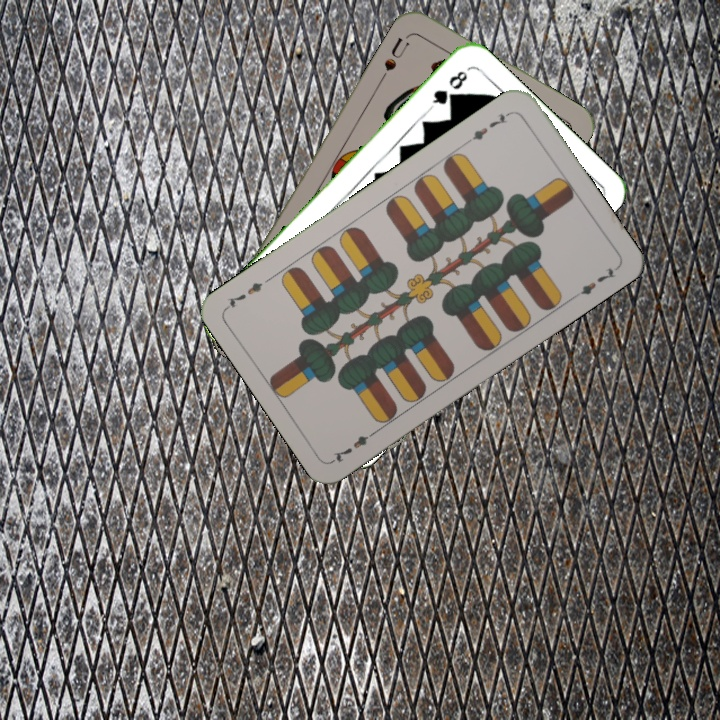E7: (328, 425, 381, 465), (462, 107, 515, 146)
G8: (426, 66, 470, 112)
SU: (376, 29, 414, 83)
